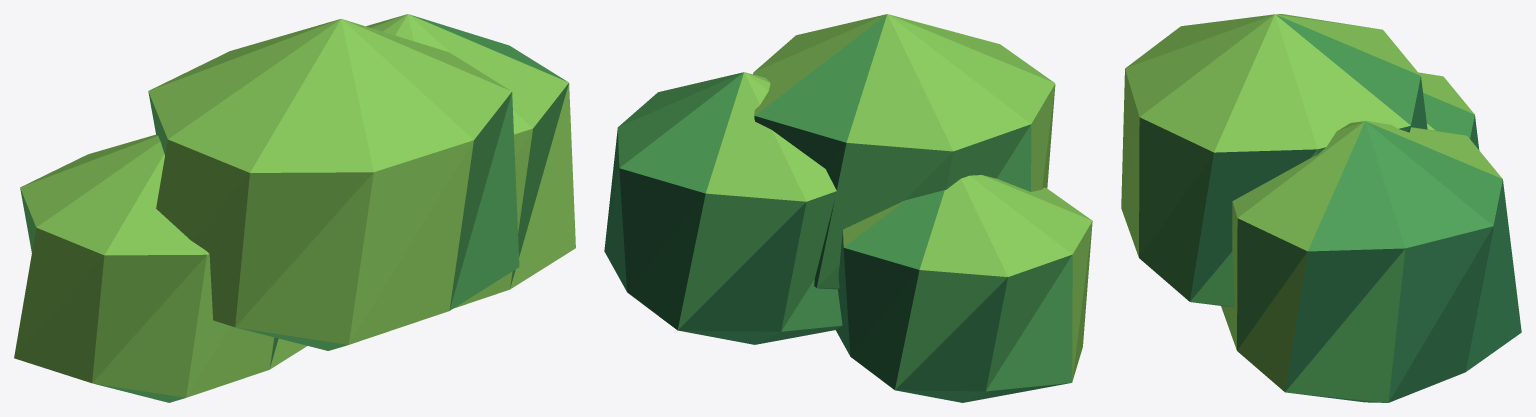
File: ArbustoRedondo.fbx
3 renders of one model, left to right at view 1: azimuth 30°, elevation 25°; view 2: azimuth 150°, elevation 25°; view 3: azimuth 270°, elevation 25°, orthographic. The views are drawn at different scales.
Parts seen in each view (by area): view 1: ArbustoRedondo_Folha_3, ArbustoRedondo_Folha_2; view 2: ArbustoRedondo_Folha_2, ArbustoRedondo_Folha_3, ArbustoRedondo_Folha_1; view 3: ArbustoRedondo_Folha_2, ArbustoRedondo_Folha_3, ArbustoRedondo_Folha_1.
Part boxes in pixels (x1,y1,x2,y2): ArbustoRedondo_Folha_3: (14,14,575,397); ArbustoRedondo_Folha_2: (20,14,568,402); ArbustoRedondo_Folha_2: (617,14,1072,391); ArbustoRedondo_Folha_3: (706,14,1092,381); ArbustoRedondo_Folha_1: (604,74,1069,402); ArbustoRedondo_Folha_2: (1139,15,1502,402); ArbustoRedondo_Folha_3: (1121,14,1502,391); ArbustoRedondo_Folha_1: (1190,77,1521,402).
Size of the model in its own units: 504 by 347 by 355.
